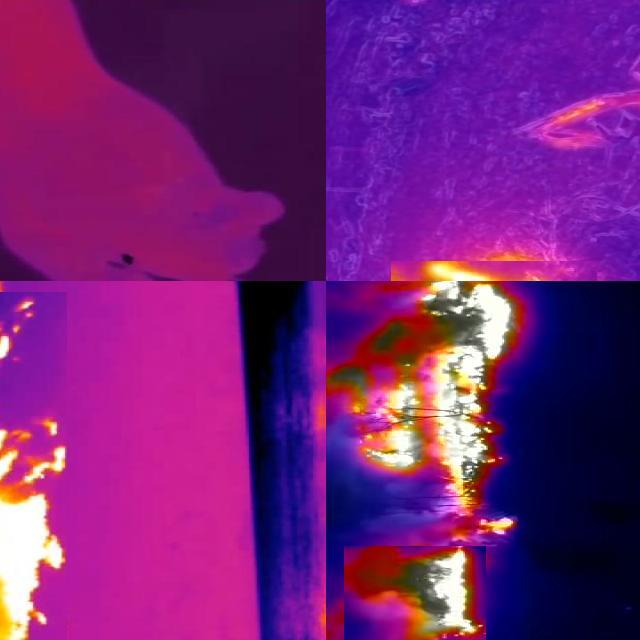fire: (327, 282, 519, 495), (1, 292, 68, 640), (345, 546, 487, 640), (388, 495, 516, 543), (392, 261, 598, 282)
